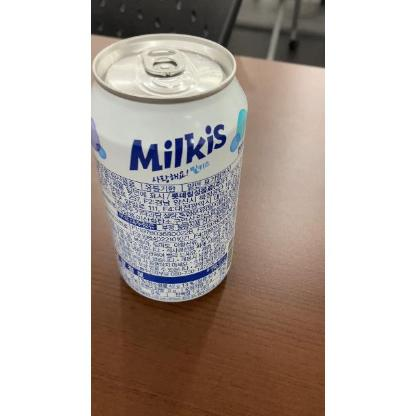Can: (92, 31, 252, 305)
